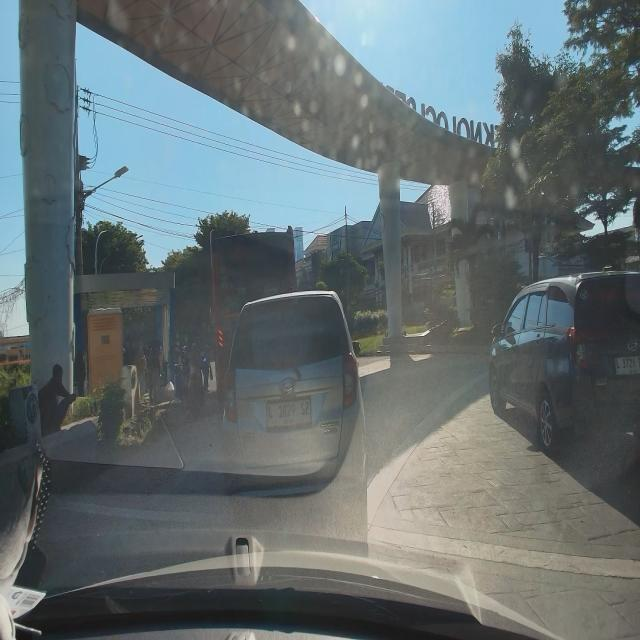car: (222, 289, 370, 519), (486, 264, 640, 456)
license-plate: (265, 397, 313, 427), (611, 352, 640, 377)
